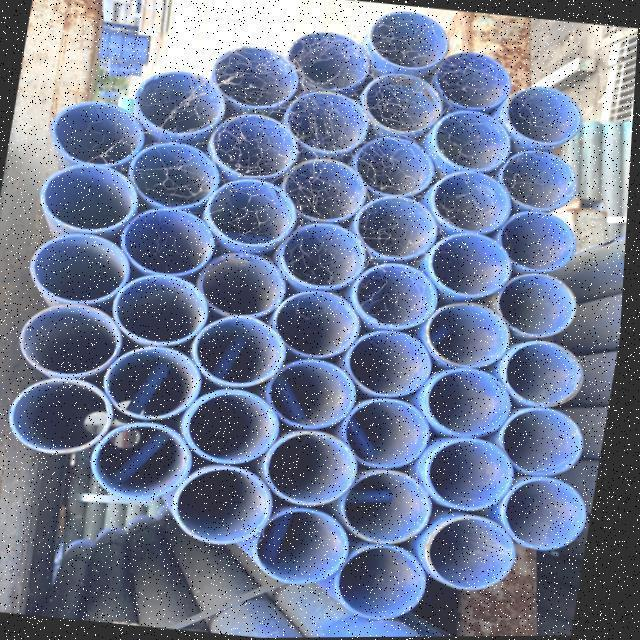pipe: (182, 464, 282, 548), (97, 419, 196, 497), (46, 161, 146, 237), (263, 504, 357, 583), (36, 231, 137, 304), (186, 389, 284, 464), (18, 376, 117, 450), (27, 302, 127, 375), (120, 271, 217, 345), (269, 431, 363, 507), (343, 548, 436, 624), (428, 513, 520, 589), (198, 315, 292, 389), (108, 345, 203, 418), (59, 97, 151, 171), (347, 468, 436, 544), (430, 438, 520, 513), (509, 475, 596, 552), (209, 176, 302, 247), (126, 204, 218, 275), (280, 156, 372, 226), (348, 397, 437, 469), (279, 220, 369, 291), (274, 359, 363, 430), (431, 368, 515, 441), (212, 111, 303, 178), (275, 292, 364, 360), (507, 406, 591, 478), (359, 261, 446, 330), (349, 329, 436, 398), (434, 229, 521, 298), (362, 191, 446, 261), (430, 299, 515, 368), (507, 338, 590, 408), (141, 71, 229, 137), (132, 140, 221, 205), (200, 251, 289, 316), (213, 42, 302, 104), (504, 271, 585, 339), (424, 50, 515, 110), (433, 166, 513, 233), (354, 136, 440, 198), (363, 73, 450, 134), (293, 29, 377, 92), (366, 7, 454, 67), (501, 204, 581, 270), (287, 91, 372, 153), (439, 108, 517, 175), (503, 148, 578, 213), (508, 85, 585, 147)
